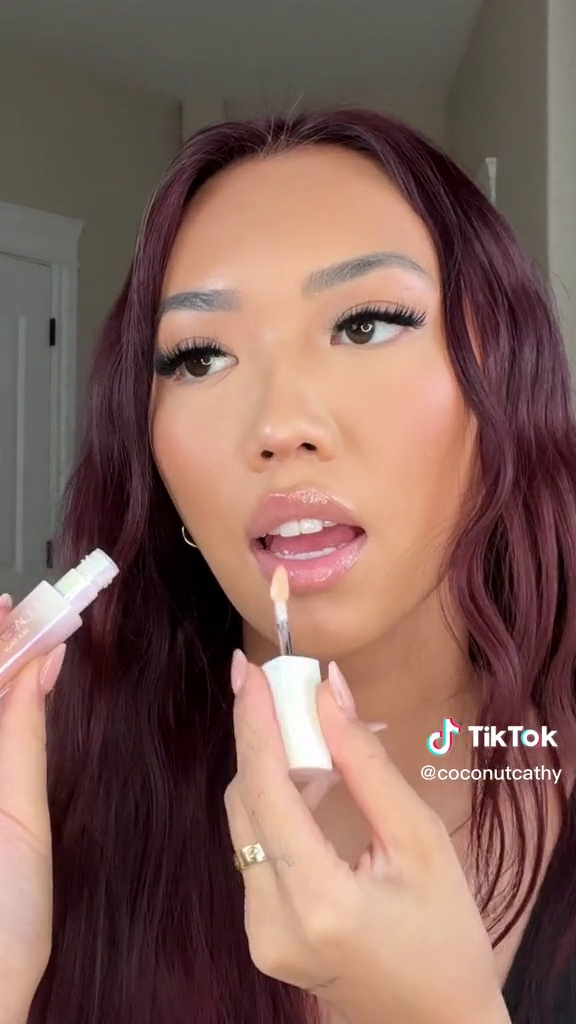train' :'yolo_data/train/images',: (239, 546, 340, 794), (1, 534, 127, 712)
